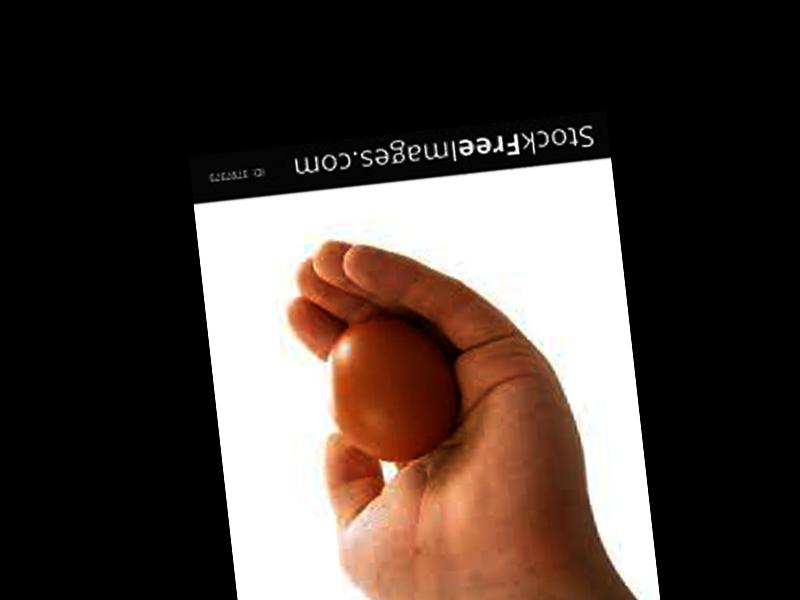Eggs: (321, 299, 460, 469)
